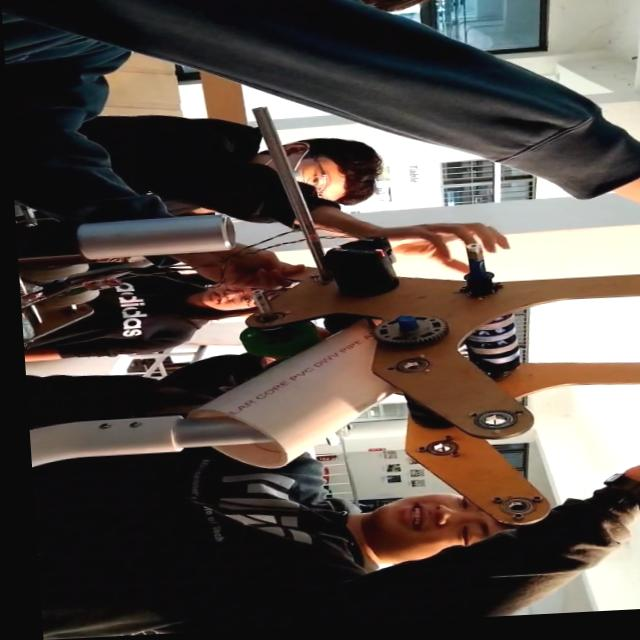CORAL: (185, 322, 435, 473)
